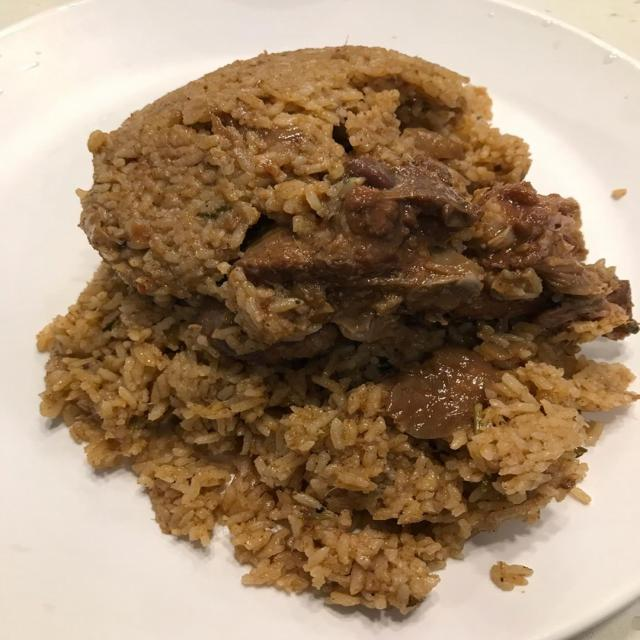biryani: (89, 42, 553, 622)
